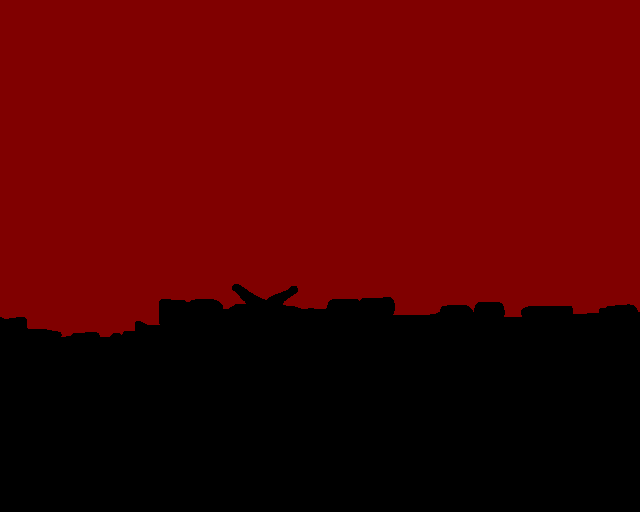Sky: (1, 1, 639, 336)
